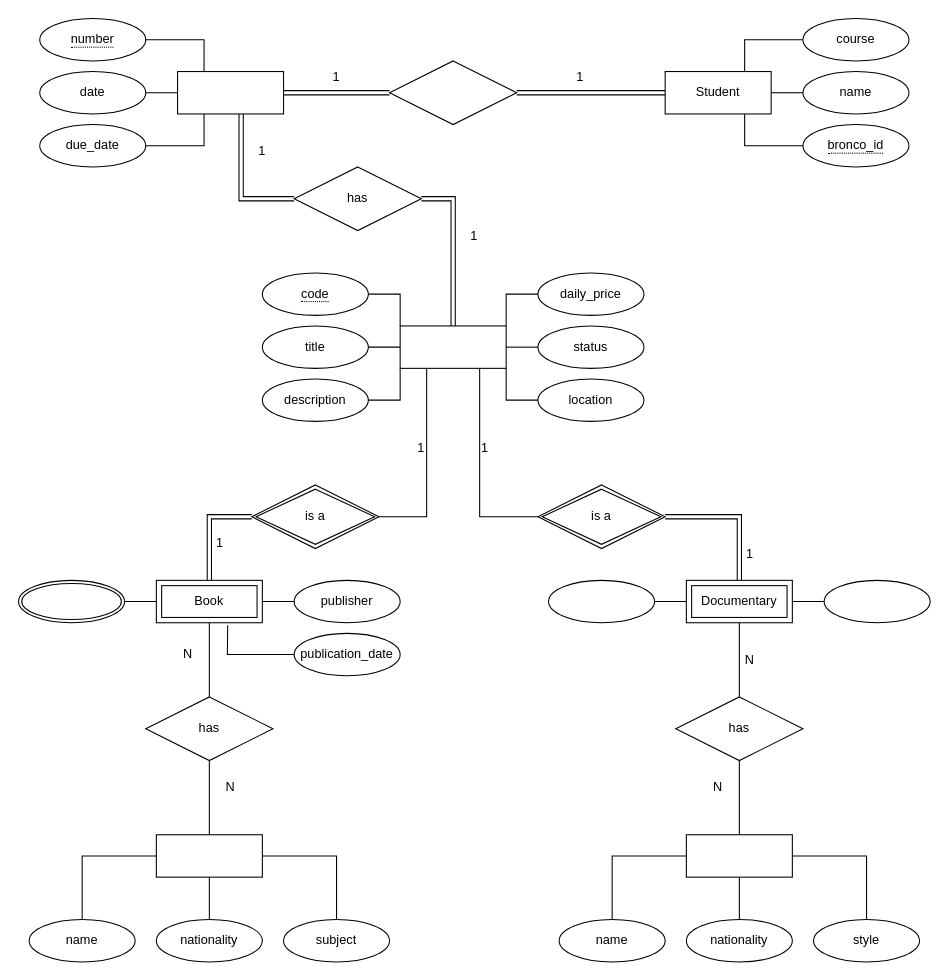
Some shapes in this 949 by 980 pixel diagram are drawn without their labels. The centre of each missing label's shape, as x and y in pixels:
Author: (208,855)
Director: (738,855)
Item: (452,346)
length: (601,601)
Loan: (230,92)
page: (71,601)
release_date: (876,601)
take out: (452,92)
